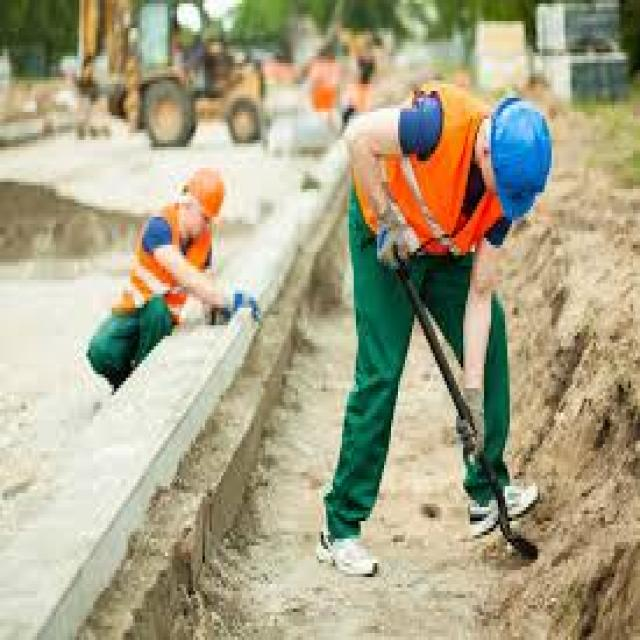gloved: (368, 197, 419, 277), (454, 384, 484, 462), (223, 287, 260, 322)
